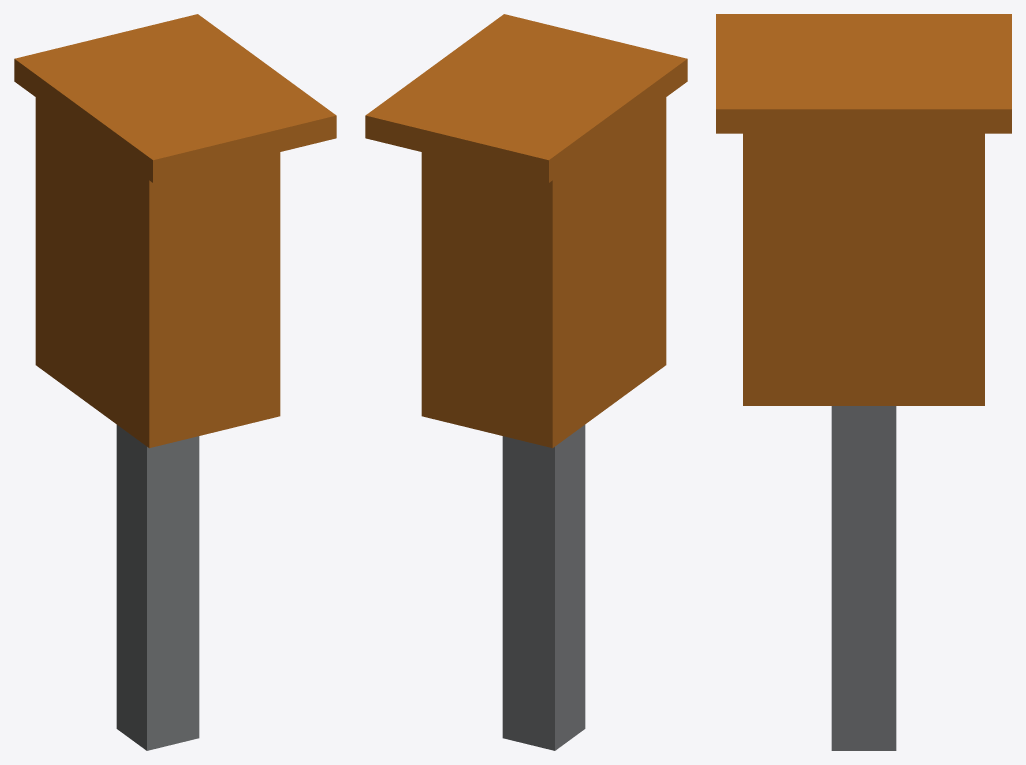
Rendered from SM_Prop_fast_phone_0_LOD2.glb.
3 renders of one model, left to right at view 1: azimuth 30°, elevation 25°; view 2: azimuth 150°, elevation 25°; view 3: azimuth 270°, elevation 25°, orthographic. The views are drawn at different scales.
Visible parts, largest first — view 1: SM_Prop_fast_phone_0_LOD2; view 2: SM_Prop_fast_phone_0_LOD2; view 3: SM_Prop_fast_phone_0_LOD2.
Part boxes in pixels (x1,y1,x2,y2): SM_Prop_fast_phone_0_LOD2: (14,14,336,750); SM_Prop_fast_phone_0_LOD2: (365,14,687,750); SM_Prop_fast_phone_0_LOD2: (716,14,1011,750).
Size of the model in its own units: 0.42 by 1.41 by 0.55.
